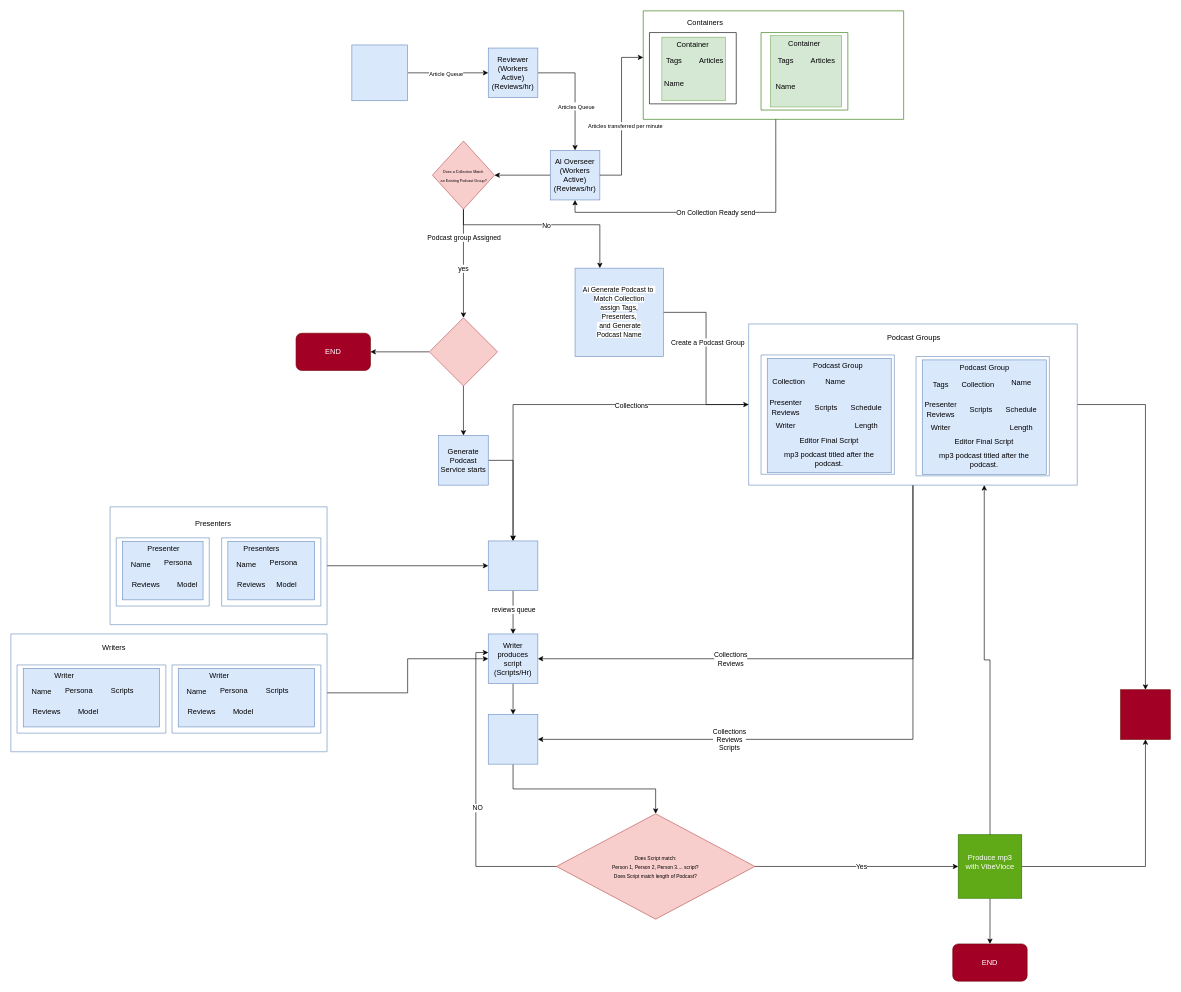
Image size: 1181x992. Some labels were removed from this diagram. Here are the shapes that lost their labels. From the top down, the box of each, then its label:
(351, 44, 408, 101): News Feed (Articles/hr)
(429, 317, 498, 386): Is it time for Podcast to be produced
(488, 540, 538, 591): Presenter Reviews Collection (Reviews/Hr)
(1120, 689, 1170, 739): Publish Service (Future)
(488, 714, 538, 764): Editor Reviews Script and produces Final Script (Scripts/Day)
